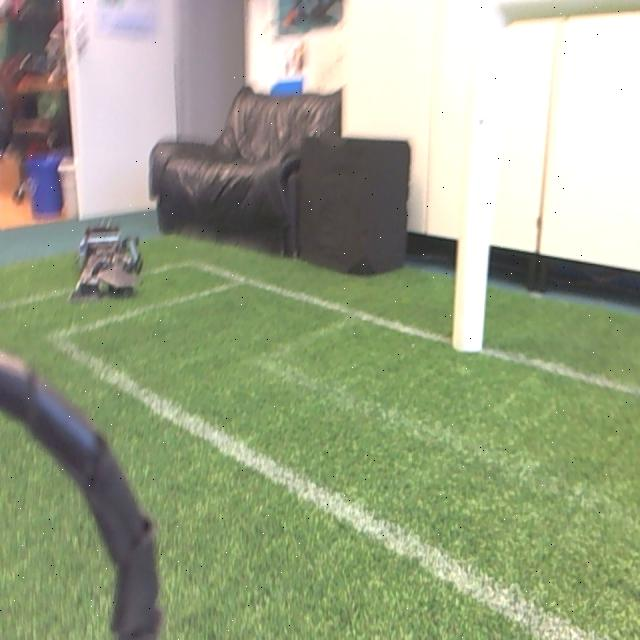goalpost: (452, 4, 506, 350)
